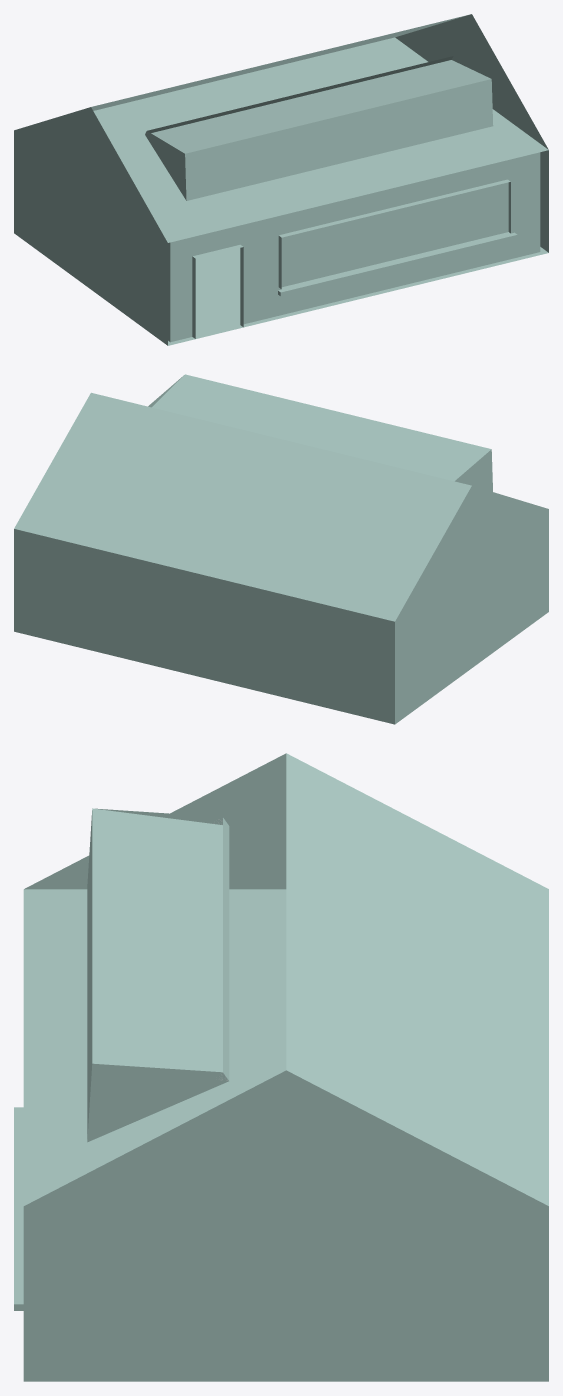
Rendered from pizzashopper.dae.
The picture shows the model from 3 angles, top to bottom: view 1: azimuth 30°, elevation 25°; view 2: azimuth 150°, elevation 25°; view 3: azimuth 270°, elevation 25°; orthographic projection. The views are drawn at different scales.
Parts seen in each view (by area): view 1: group_0 (×3); view 2: group_0 (×2); view 3: group_0 (×3).
Part boxes in pixels (x1=…): group_0 (×3): x1=14, y1=14, x2=548, y2=345; group_0 (×2): x1=14, y1=374, x2=548, y2=724; group_0 (×3): x1=14, y1=753, x2=548, y2=1381.
Size of the model in its own units: 394 by 281 by 180.
